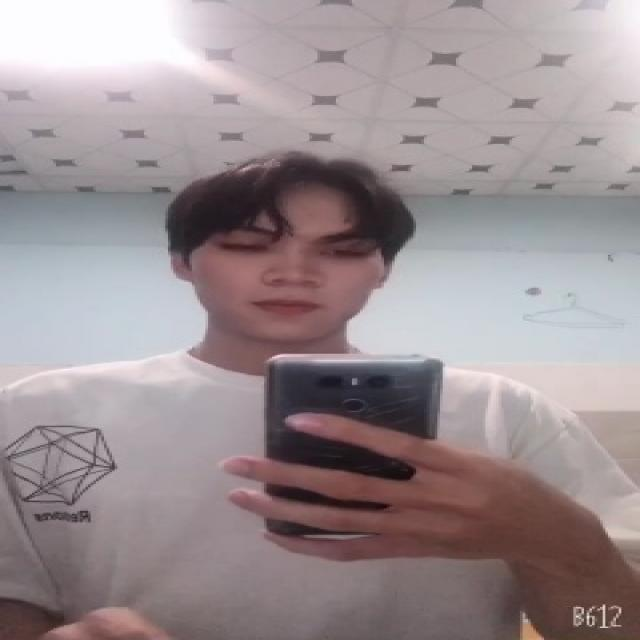Phone: (259, 350, 448, 542)
